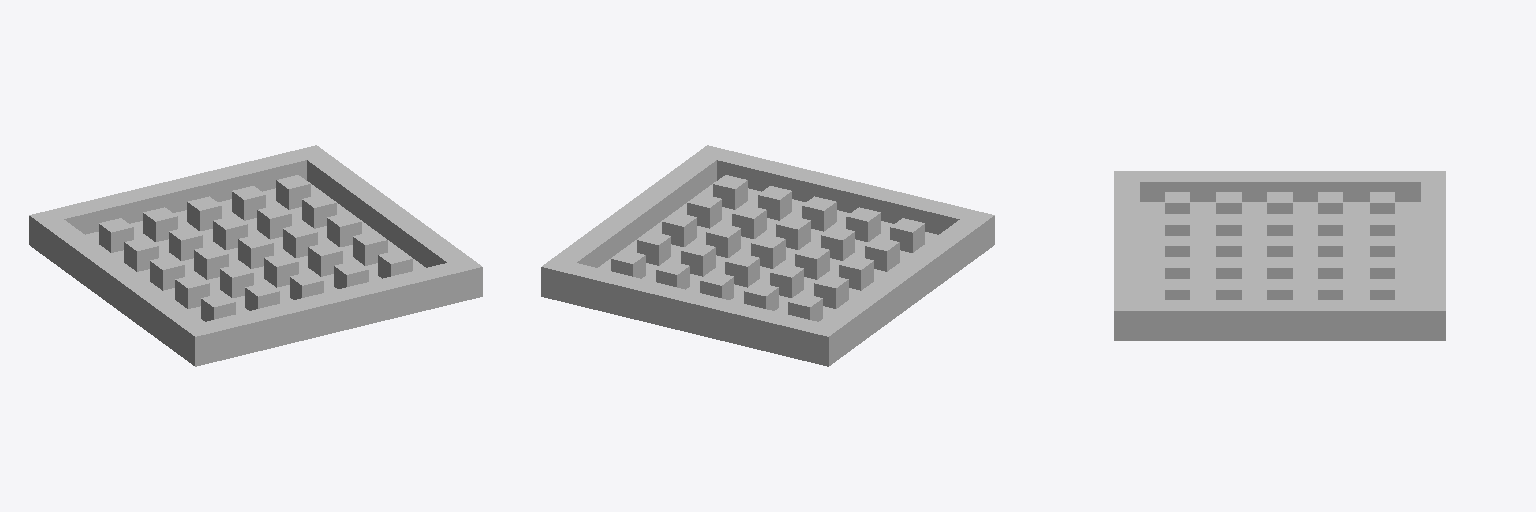
Rendered from map_level 1.obj.
3 renders of one model, left to right at view 1: azimuth 30°, elevation 25°; view 2: azimuth 150°, elevation 25°; view 3: azimuth 270°, elevation 25°, orthographic.
Visible parts, largest first — view 1: Cube; view 2: Cube; view 3: Cube.
Part boxes in pixels (left/top/right/bottom): Cube: left=29, top=145, right=482, bottom=366; Cube: left=541, top=145, right=994, bottom=366; Cube: left=1114, top=171, right=1445, bottom=340.
Size of the model in its own units: 12.98 by 1.29 by 13.